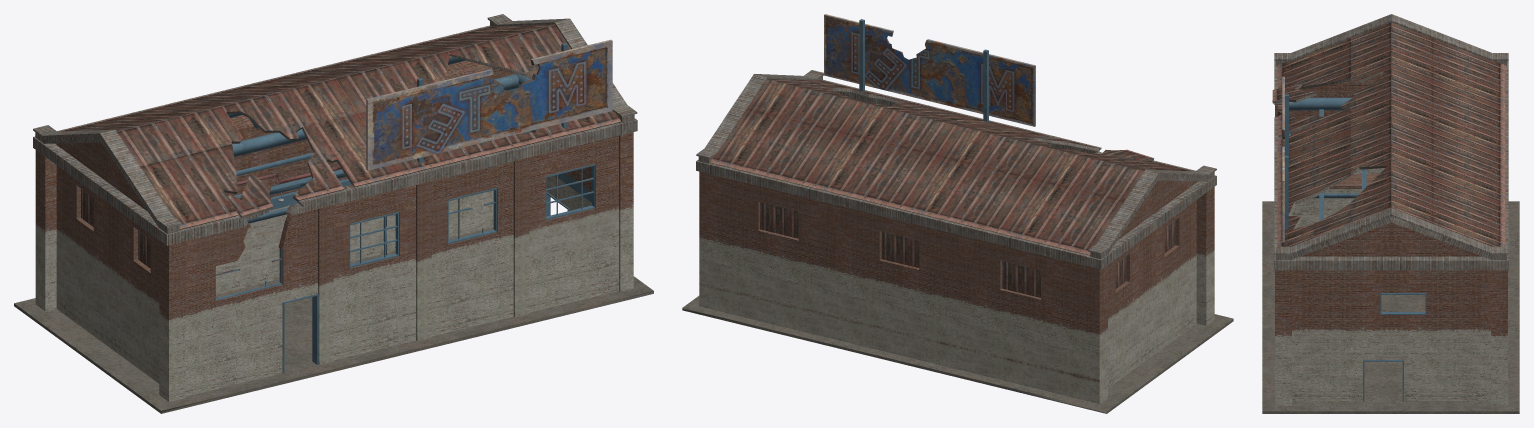
Rendered from Building_HeiygcFz09_2048.glb.
3 renders of one model, left to right at view 1: azimuth 30°, elevation 25°; view 2: azimuth 150°, elevation 25°; view 3: azimuth 270°, elevation 25°, orthographic. The views are drawn at different scales.
Visible parts, largest first — view 1: xiutz_heiygc_fz_09; view 2: xiutz_heiygc_fz_09; view 3: xiutz_heiygc_fz_09.
Boxes of the visible parts, x1,y1,x2,y2 form: xiutz_heiygc_fz_09: (14,14,653,413); xiutz_heiygc_fz_09: (682,14,1233,413); xiutz_heiygc_fz_09: (1262,14,1519,413).
Bounding box in the file's own units: 39.19 × 19.69 × 20.27.
Materials: 1 (1 with a texture image).
